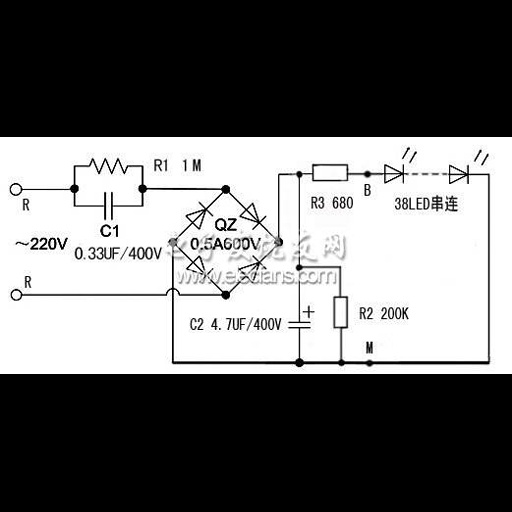capacitor: (95, 191, 124, 223)
firstpolarcapacitor: (288, 305, 319, 334)
firstresistance: (308, 160, 351, 185), (330, 293, 353, 333)
rectifierbridge: (170, 189, 281, 298)
secondled: (443, 147, 489, 187), (382, 145, 416, 187)
secondresistance: (82, 156, 132, 179)
